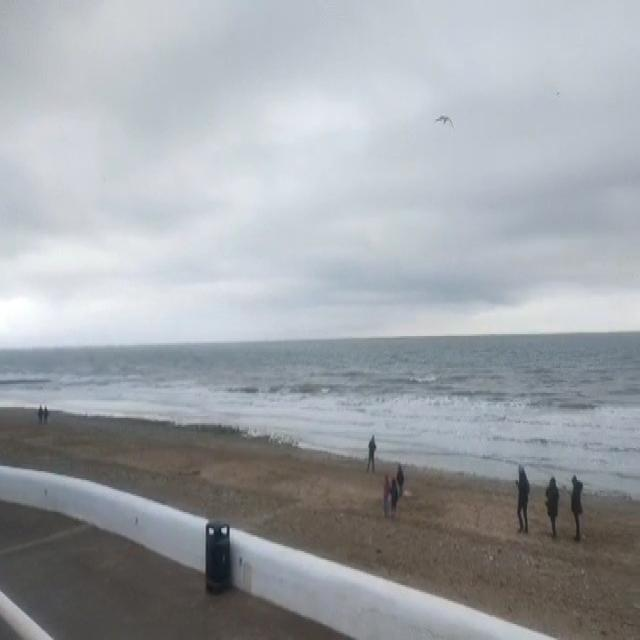person: (566, 469, 589, 545), (511, 460, 533, 537), (542, 467, 564, 544), (362, 427, 379, 477), (386, 475, 403, 520), (392, 459, 407, 500), (381, 473, 393, 516), (41, 402, 54, 430), (37, 403, 43, 428)
